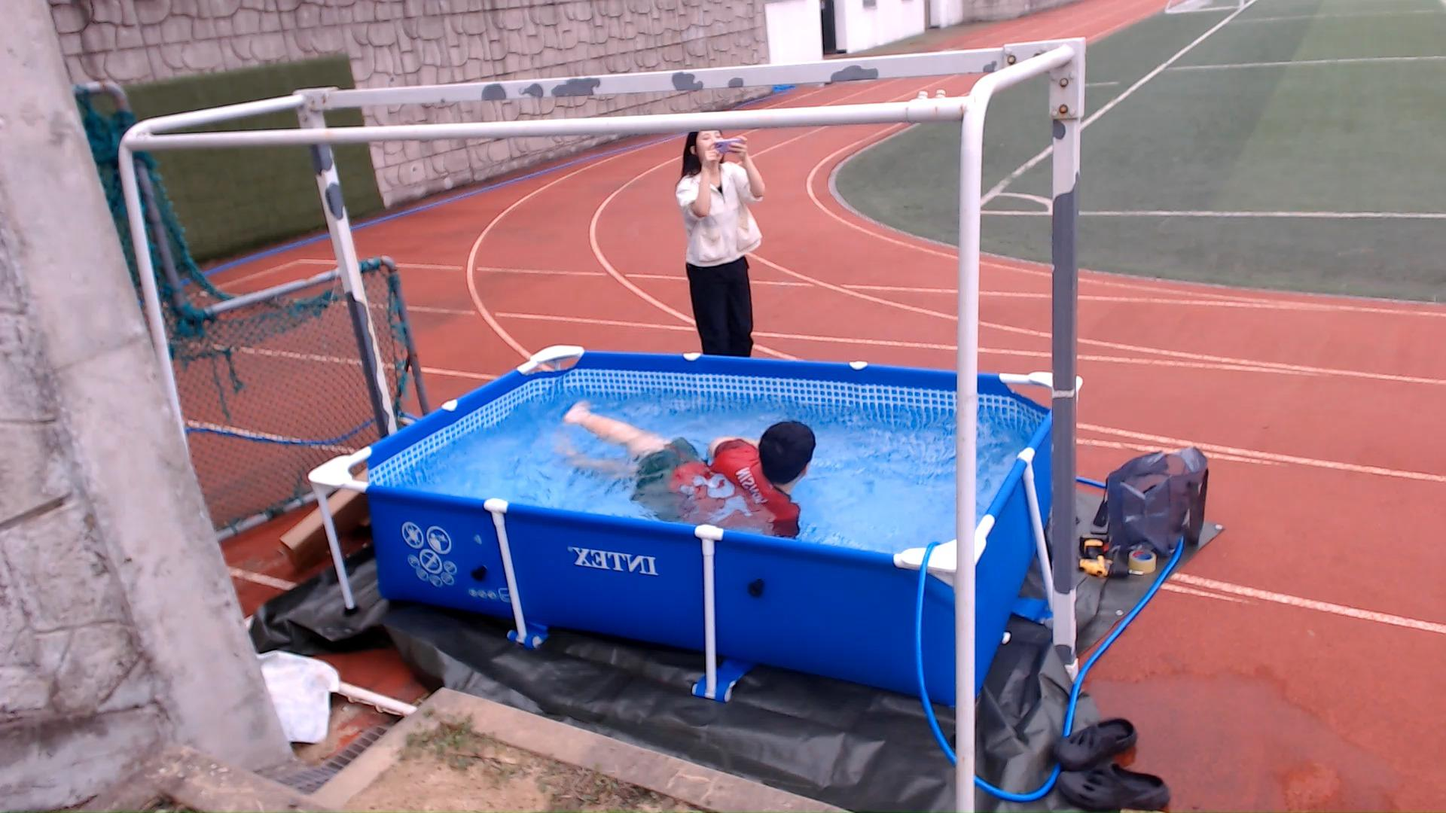Swimming: (496, 393, 872, 532)
